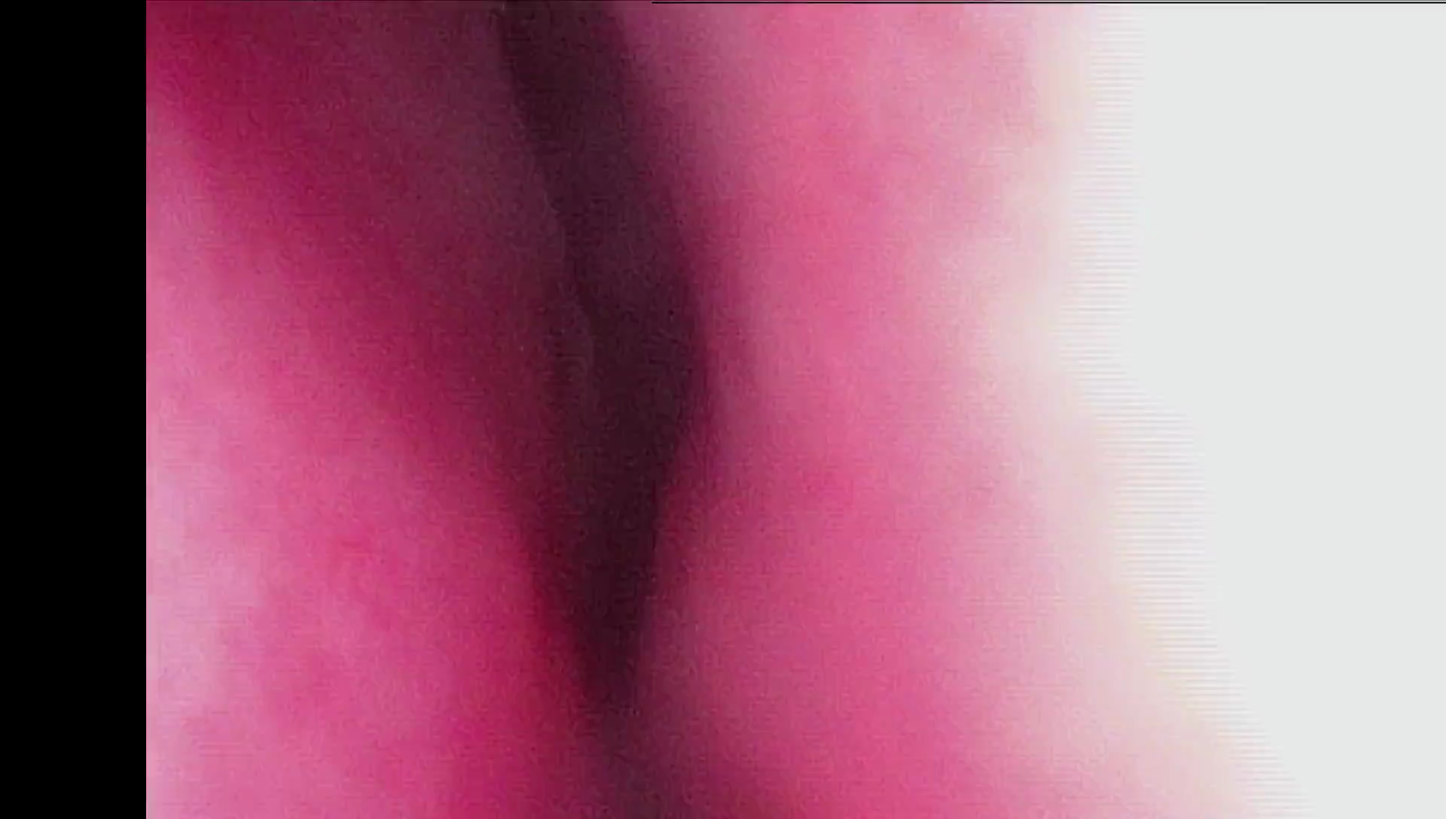close_wall: (824, 20, 1446, 811)
next: (438, 269, 758, 742), (490, 52, 733, 447)
